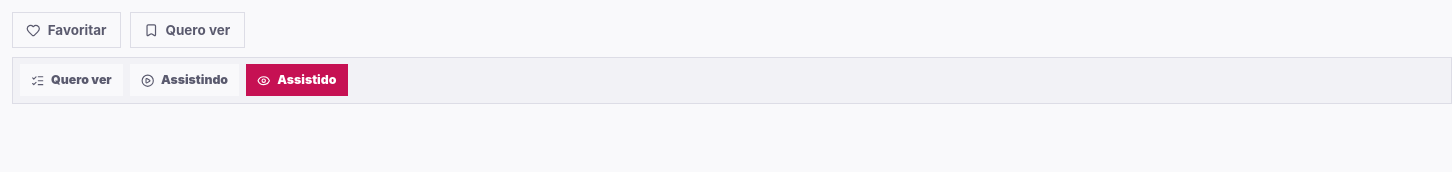
Test: ProductionActions › usuário autenticado › clicar de novo no status ativo remove o status (toggle off)
Click the button "Assistido": (297, 80) [246,64,348,96]
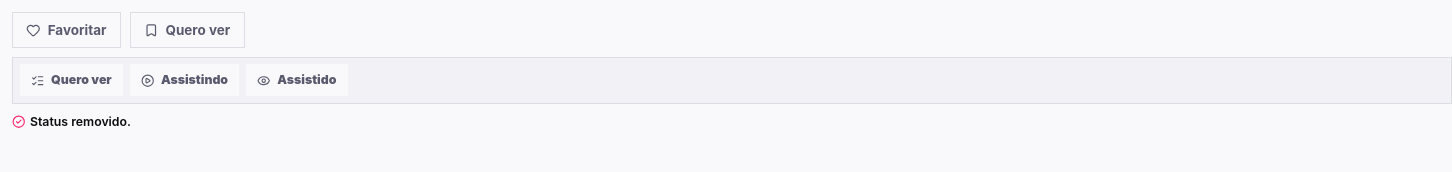
Expected: the text "Status removido." is shown, [12,113,131,131]
